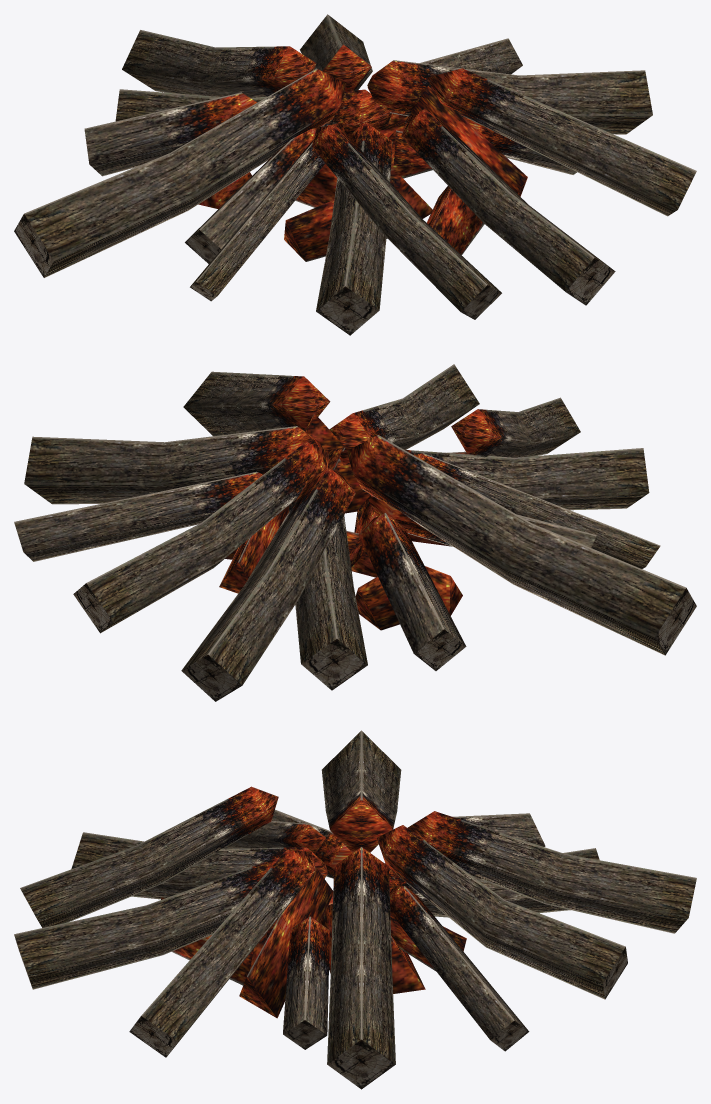
File: obj_small_043.FBX
The picture shows the model from 3 angles, top to bottom: view 1: azimuth 30°, elevation 25°; view 2: azimuth 150°, elevation 25°; view 3: azimuth 270°, elevation 25°; orthographic projection. The views are drawn at different scales.
Visible parts, largest first — view 1: obj_small_043_01; view 2: obj_small_043_01; view 3: obj_small_043_01.
Part boxes in pixels (x1=…): obj_small_043_01: x1=14, y1=14, x2=696, y2=335; obj_small_043_01: x1=14, y1=364, x2=696, y2=701; obj_small_043_01: x1=14, y1=730, x2=696, y2=1089.
Bounding box in the file's own units: 2.98 × 0.6674 × 2.86.
